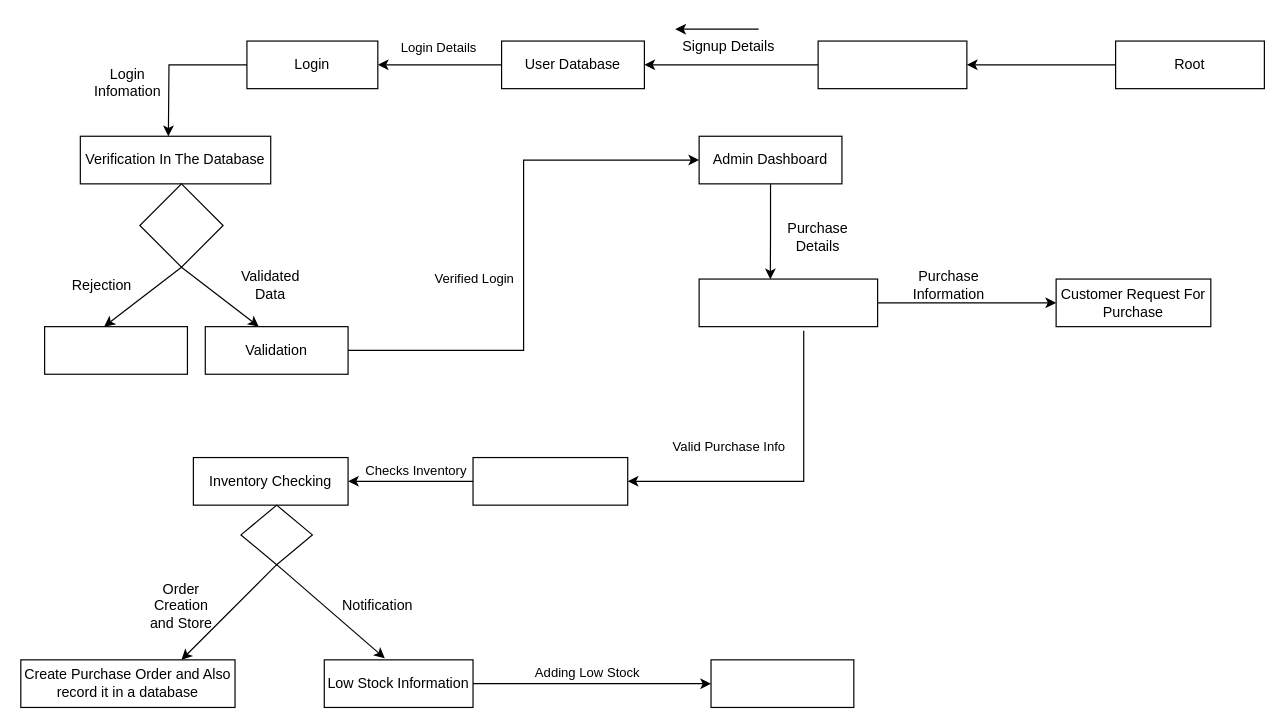
The diagram is 1285 pixels wide and 728 high, and some of its shapes have lost their labels. The centre of each missing label's shape, as x and y in pixels:
Registation: the point at 892,64
Rejection Notification: the point at 115,349
Supplier: the point at 782,683
Valid Details: the point at 550,480
Verification Of Purchase and Its Detials: the point at 788,302
